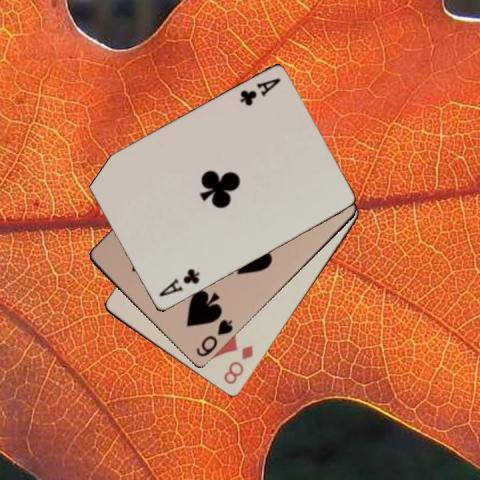6s: (192, 316, 234, 358)
8d: (221, 342, 255, 387)
Ac: (156, 266, 202, 299), (237, 75, 282, 108)
